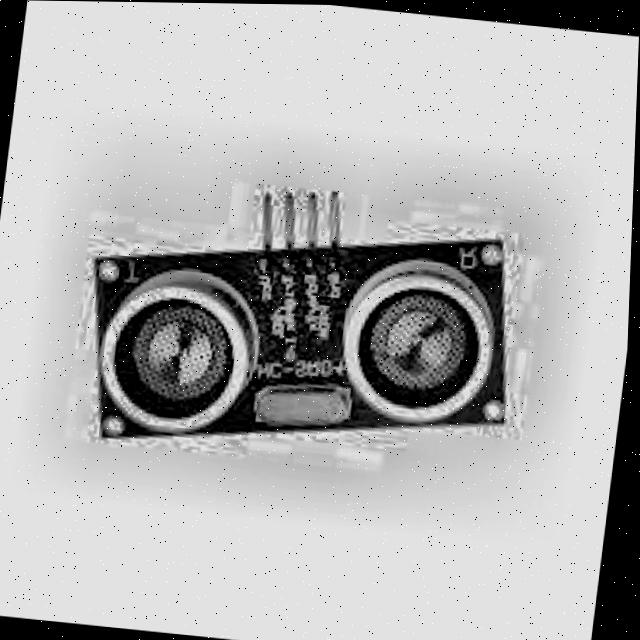Ultrasonic Sensor: (79, 183, 533, 450)
